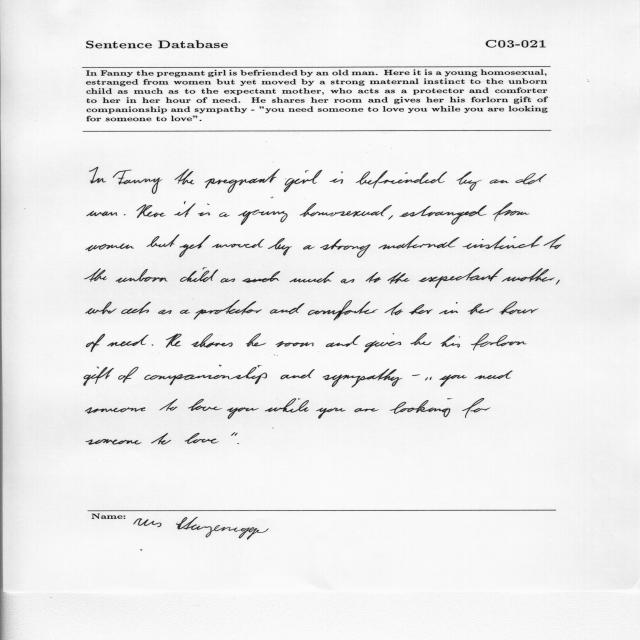word: (145, 365, 268, 385), (204, 169, 280, 193), (418, 267, 503, 288), (399, 205, 487, 225), (356, 171, 447, 189), (323, 369, 403, 388), (238, 197, 288, 225), (308, 300, 378, 320), (194, 300, 262, 320), (300, 203, 392, 217), (389, 398, 453, 417), (113, 170, 162, 194), (378, 236, 459, 250), (463, 236, 543, 250), (320, 239, 371, 258), (471, 334, 527, 351), (180, 267, 235, 283), (284, 170, 322, 192), (502, 268, 555, 282), (364, 333, 401, 353), (116, 269, 168, 283), (493, 202, 529, 221), (180, 235, 211, 257), (265, 398, 309, 413), (191, 333, 233, 348), (185, 433, 238, 444), (462, 398, 491, 418), (84, 367, 114, 386), (500, 301, 539, 315), (107, 335, 149, 347), (457, 171, 482, 191), (290, 272, 334, 283), (212, 239, 264, 248), (243, 271, 281, 283), (85, 407, 146, 414), (136, 204, 166, 218), (326, 335, 361, 347), (146, 235, 180, 247), (268, 238, 292, 255), (188, 399, 222, 411), (121, 302, 151, 315), (270, 303, 305, 314), (86, 244, 134, 252), (227, 407, 259, 419), (86, 302, 117, 314), (515, 173, 547, 184), (280, 369, 315, 379), (475, 370, 513, 379), (175, 201, 196, 217), (118, 367, 139, 383), (439, 375, 467, 387), (316, 408, 346, 419), (86, 439, 141, 445), (87, 334, 105, 352), (85, 268, 107, 282), (544, 235, 565, 249), (89, 167, 106, 184), (468, 304, 494, 315), (175, 169, 194, 184), (246, 333, 266, 347), (388, 272, 410, 284), (409, 304, 433, 315), (411, 333, 432, 345), (384, 303, 403, 316), (441, 335, 460, 348), (439, 302, 458, 314), (276, 341, 314, 347), (159, 399, 178, 411), (166, 334, 182, 348), (151, 433, 171, 444), (330, 171, 343, 184), (366, 272, 381, 283), (87, 211, 117, 216), (198, 204, 210, 216), (354, 409, 379, 413), (490, 179, 509, 184), (303, 245, 315, 250), (341, 279, 355, 283), (158, 310, 172, 314), (219, 212, 229, 217), (180, 309, 190, 314), (388, 215, 393, 220), (425, 377, 432, 380), (556, 280, 560, 285), (412, 374, 420, 376), (152, 344, 153, 346), (237, 443, 239, 444), (124, 214, 125, 215)
